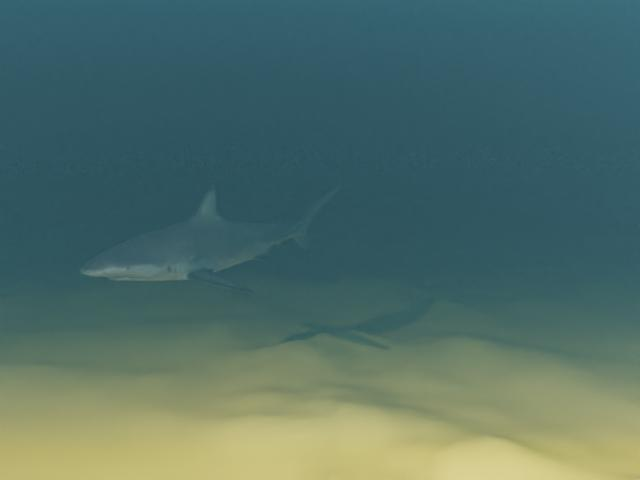Carribean Shark.001: (80, 179, 351, 293)
